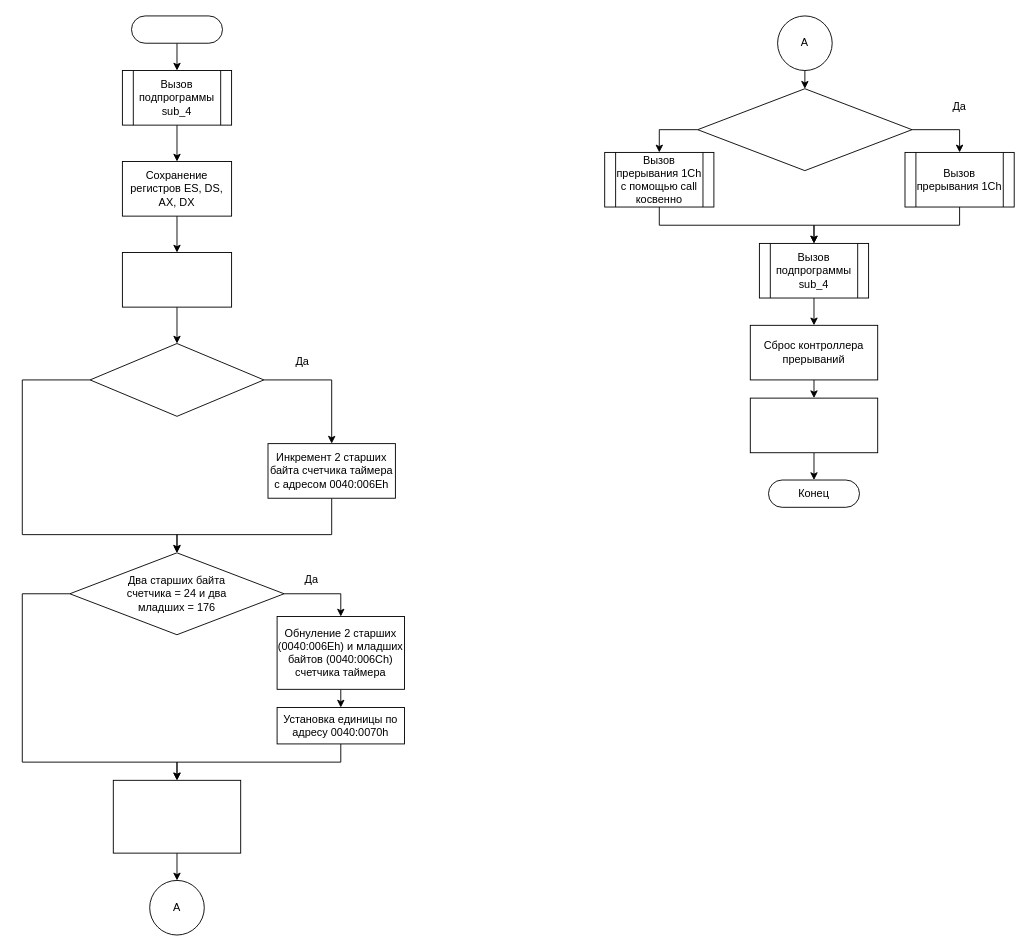
The diagram is 1030 pixels wide and 951 high, and some of its shapes have lost their labels. The shapes that lost their labels are listed below. From the top down, each one's centre as x and y in pixels, then its label:
At point 176,29: "Начало".
At point 804,129: "Установлен второй бит (PF) по 0040:0314h".
At point 176,279: "Инкремент 2 младших байта счетчика таймера с адресом 0040:006Сh".
At point 176,379: "Два младших байта счетчика таймера по адресу 00:40:006Сh = 0".
At point 813,425: "Восстановление регистров ES, DS, AX, DX".
At point 176,816: "Декремент счетчика до отключения моторчика дисковода по 0040:0040h".
